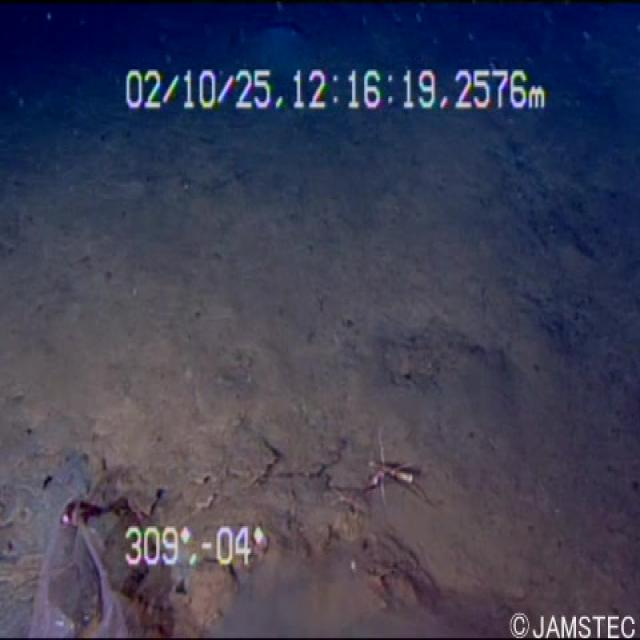plastic: (23, 473, 144, 638)
